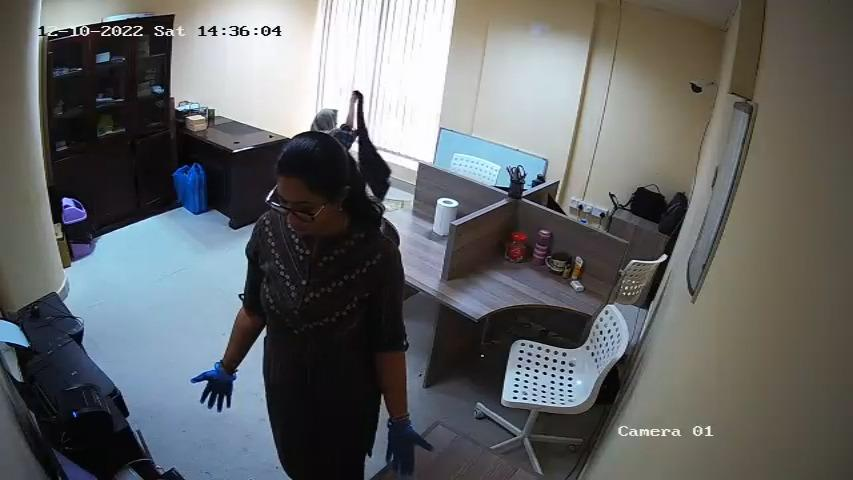gloves: (380, 413, 434, 480), (190, 362, 246, 414)
